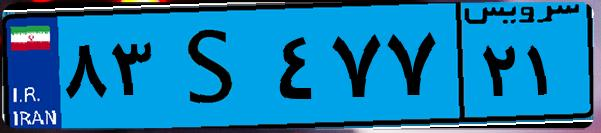1: (525, 38, 570, 115)
2: (475, 38, 525, 113)
3: (110, 28, 158, 98)
4: (270, 28, 330, 110)
7: (385, 28, 445, 110), (330, 28, 385, 110)
8: (57, 26, 110, 100)
S: (158, 12, 270, 120)
